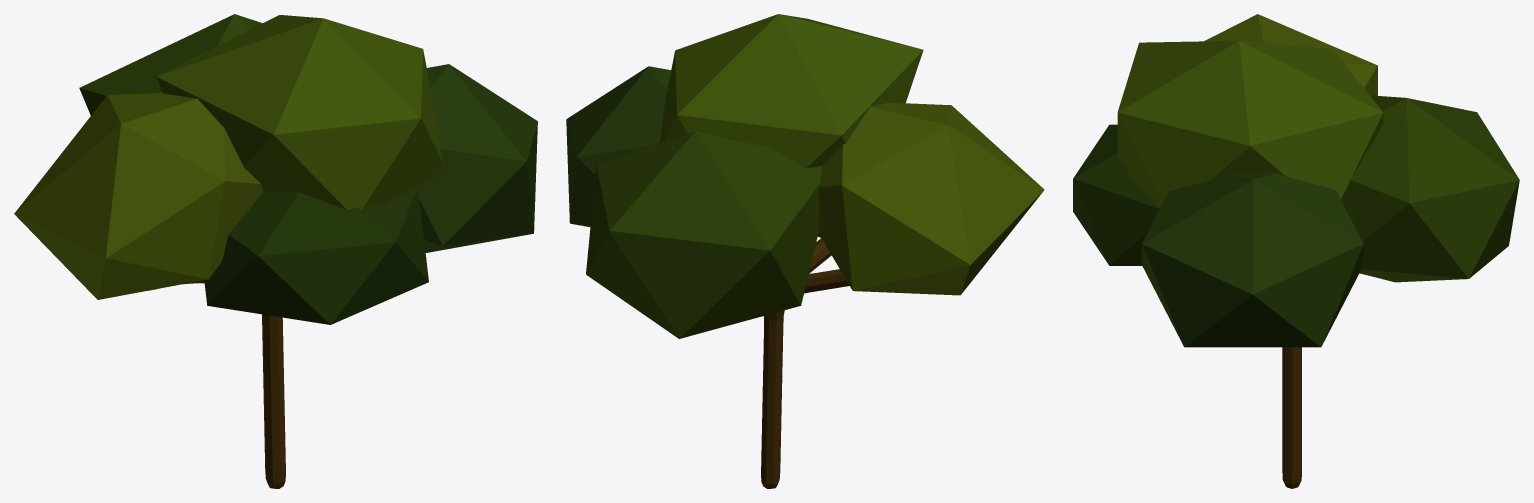
File: alberoNoLuci.fbx
The picture shows the model from 3 angles, left to right: view 1: azimuth 30°, elevation 25°; view 2: azimuth 150°, elevation 25°; view 3: azimuth 270°, elevation 25°; orthographic projection. The views are drawn at different scales.
Parts seen in each view (by area): view 1: Icosphere.004, Icosphere.005, Icosphere.002, Icosphere.003, Icosphere.001, Plane; view 2: Icosphere.001, Icosphere.005, Icosphere.004, Icosphere.003, Plane; view 3: Icosphere.004, Icosphere.003, Icosphere.001, Icosphere.002, Icosphere.005, Plane.
Boxes of the visible parts, x1=… form: Icosphere.004: x1=156, y1=15, x2=443, y2=209; Icosphere.005: x1=14, y1=92, x2=263, y2=299; Icosphere.002: x1=204, y1=188, x2=428, y2=324; Icosphere.003: x1=414, y1=64, x2=537, y2=252; Icosphere.001: x1=79, y1=14, x2=262, y2=115; Plane: x1=147, y1=280, x2=285, y2=488; Icosphere.001: x1=586, y1=131, x2=822, y2=338; Icosphere.005: x1=818, y1=102, x2=1044, y2=295; Icosphere.004: x1=660, y1=14, x2=923, y2=168; Icosphere.003: x1=566, y1=66, x2=671, y2=226; Plane: x1=761, y1=238, x2=849, y2=488; Icosphere.004: x1=1117, y1=40, x2=1383, y2=207; Icosphere.003: x1=1142, y1=173, x2=1363, y2=347; Icosphere.001: x1=1342, y1=95, x2=1519, y2=282; Icosphere.002: x1=1073, y1=124, x2=1160, y2=265; Icosphere.005: x1=1204, y1=14, x2=1377, y2=95; Plane: x1=1282, y1=347, x2=1301, y2=488.
Size of the model in its own units: 1212 by 1174 by 1040.
